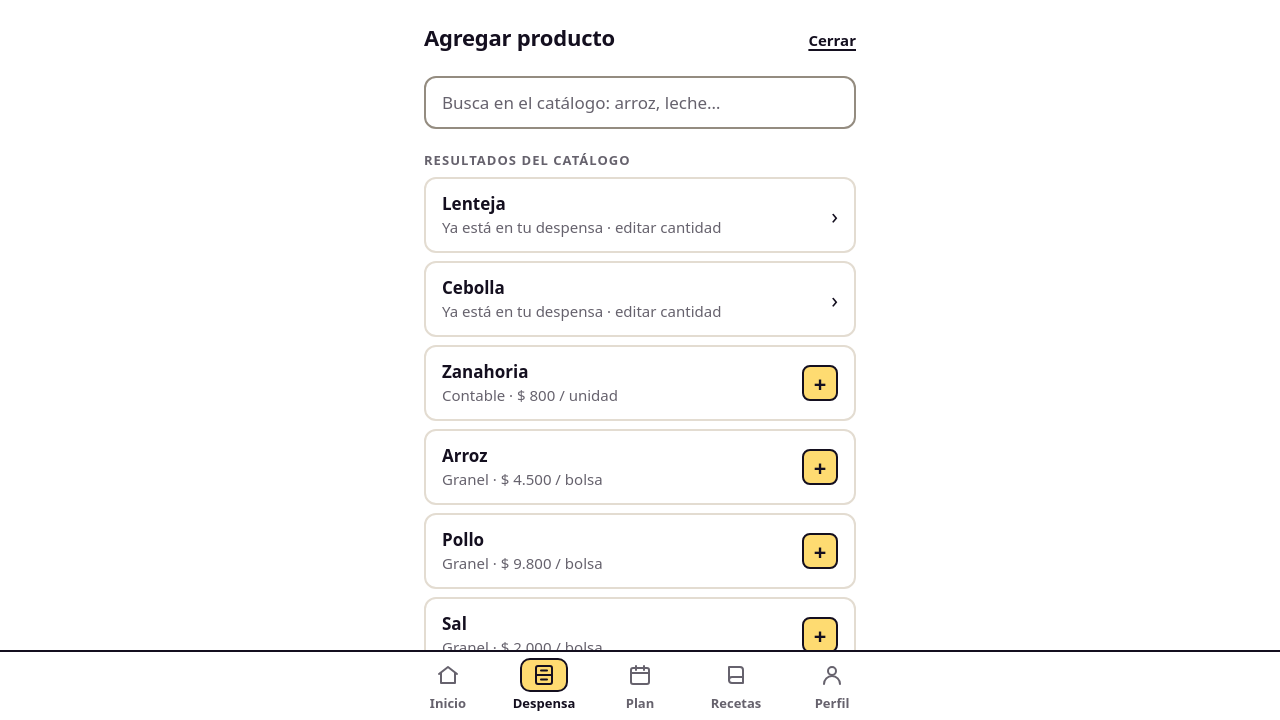
Test: Producto propio del hogar (ADR-18) › desde el catálogo se registra un producto que no existe y queda en la despensa
Type "Arepas" into the search field labelled "Busca en el catálogo" at [640, 102], box 424,76 -> 856,129
(page scrolled)
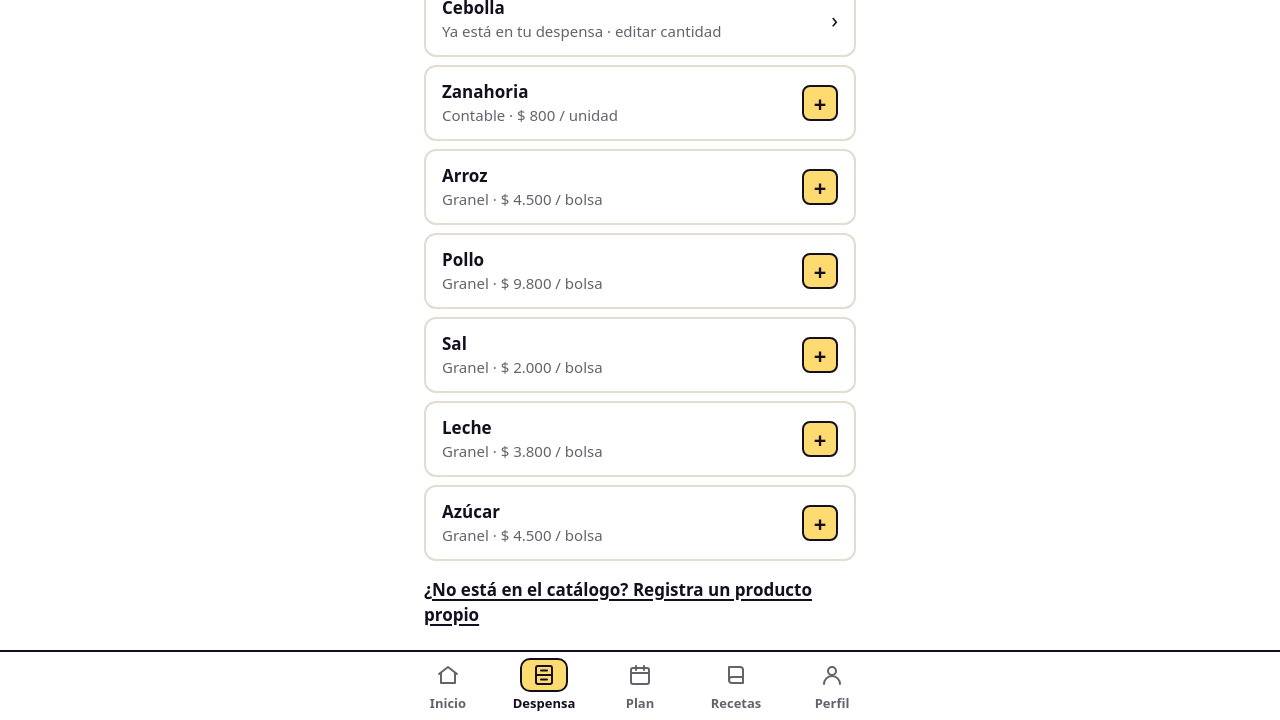
Click the link "¿No está en el catálogo? Registra un producto propio" at [640, 602], box 424,577 -> 856,628
(page scrolled)
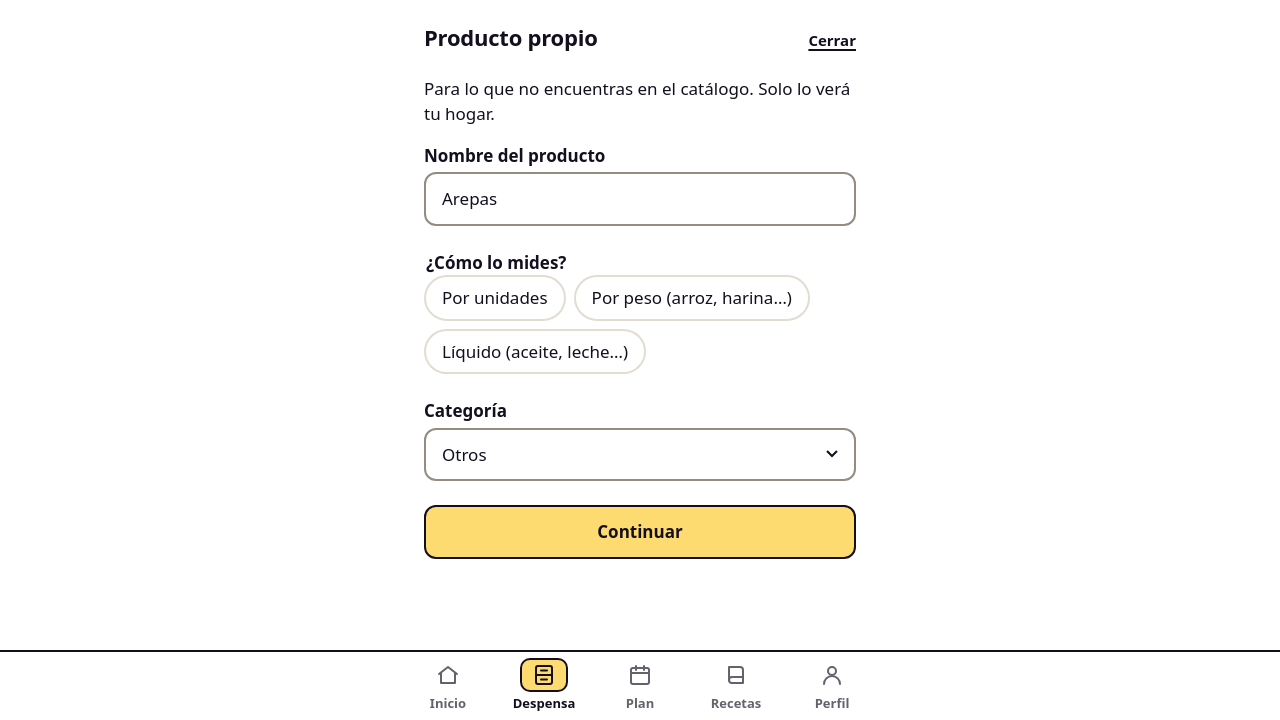
Now the field labelled "Nombre del producto" holds "Arepas", box 424,172 -> 856,226
Click the button "Continuar" at [640, 532], box 424,505 -> 856,558
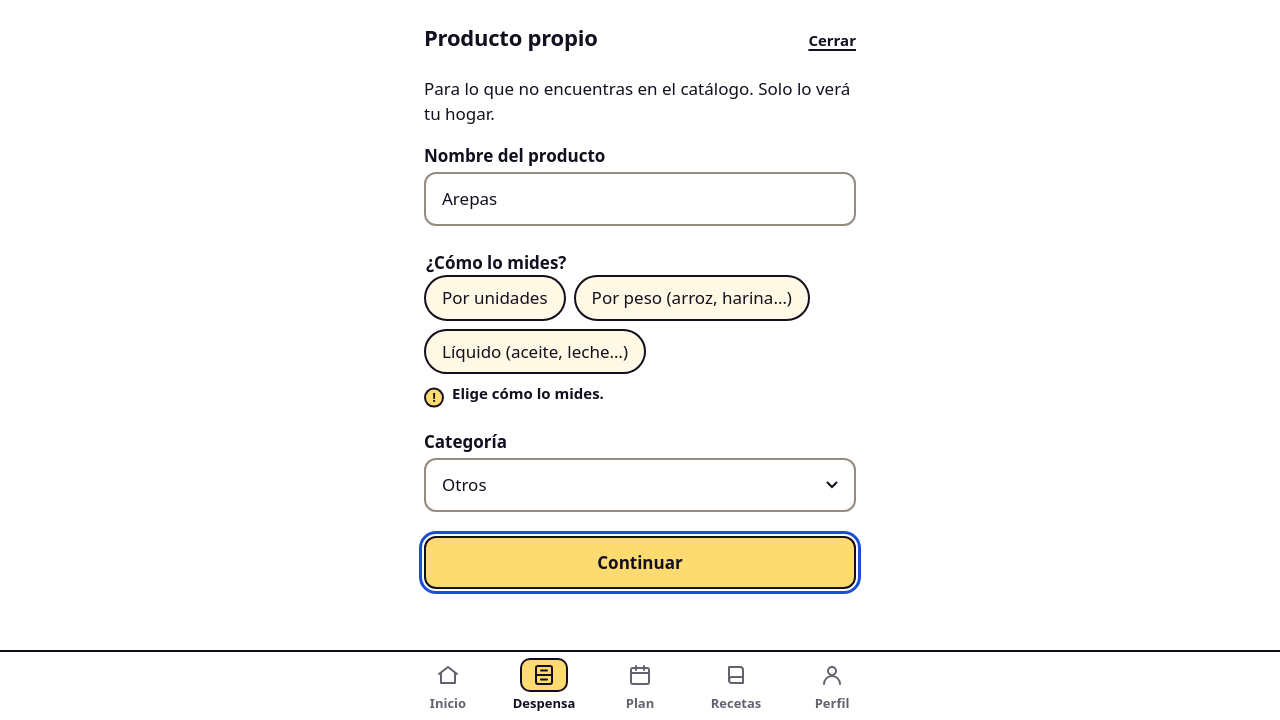
Now the text "Elige cómo lo mides." is shown, box 452,383 -> 604,403
Click the radio button labelled "Por unidades" at [495, 298], box 424,275 -> 566,320
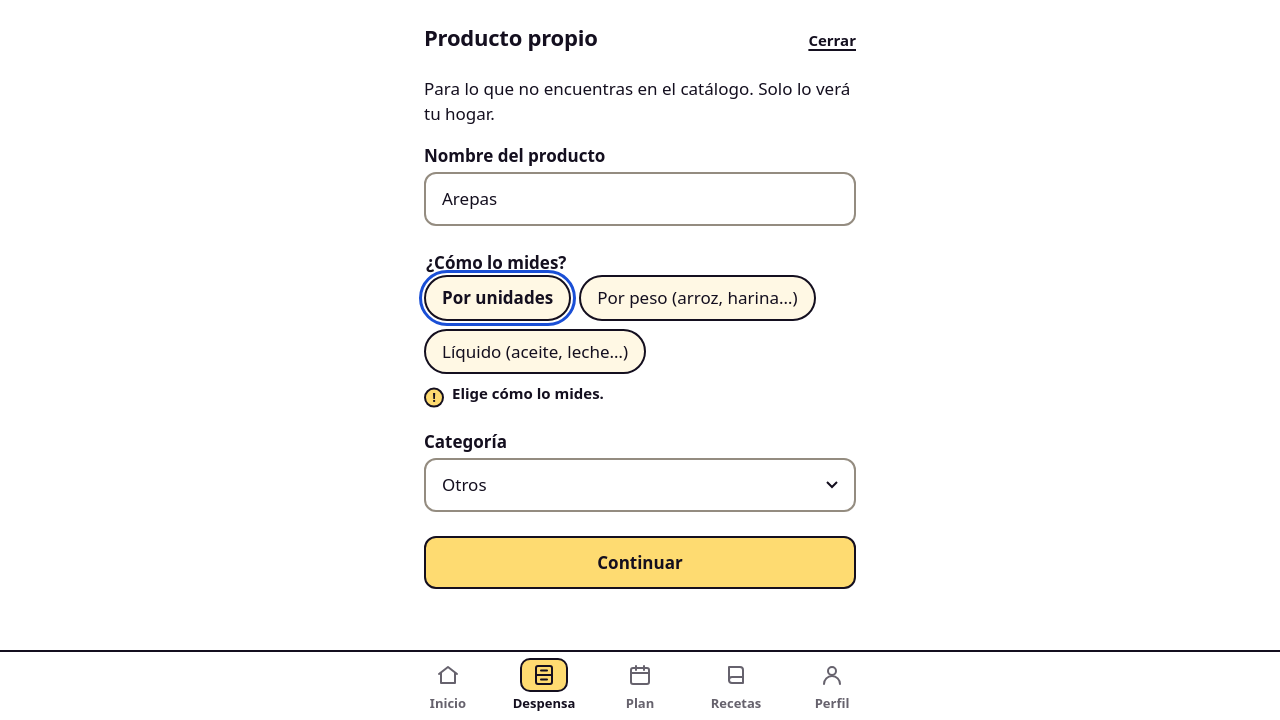
Click the button "Continuar" at [640, 562], box 424,536 -> 856,589
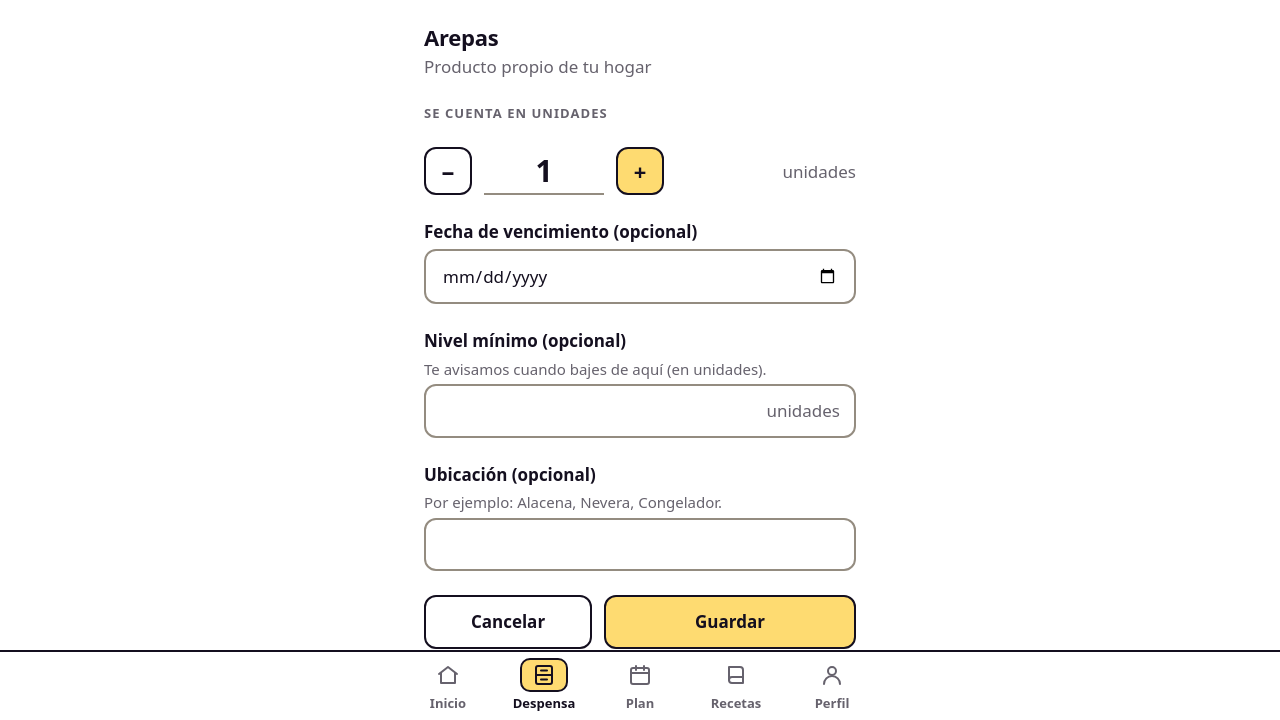
Now the heading "Arepas" is shown, box 424,24 -> 499,50
Click the button "Guardar" at [730, 622], box 604,595 -> 856,649
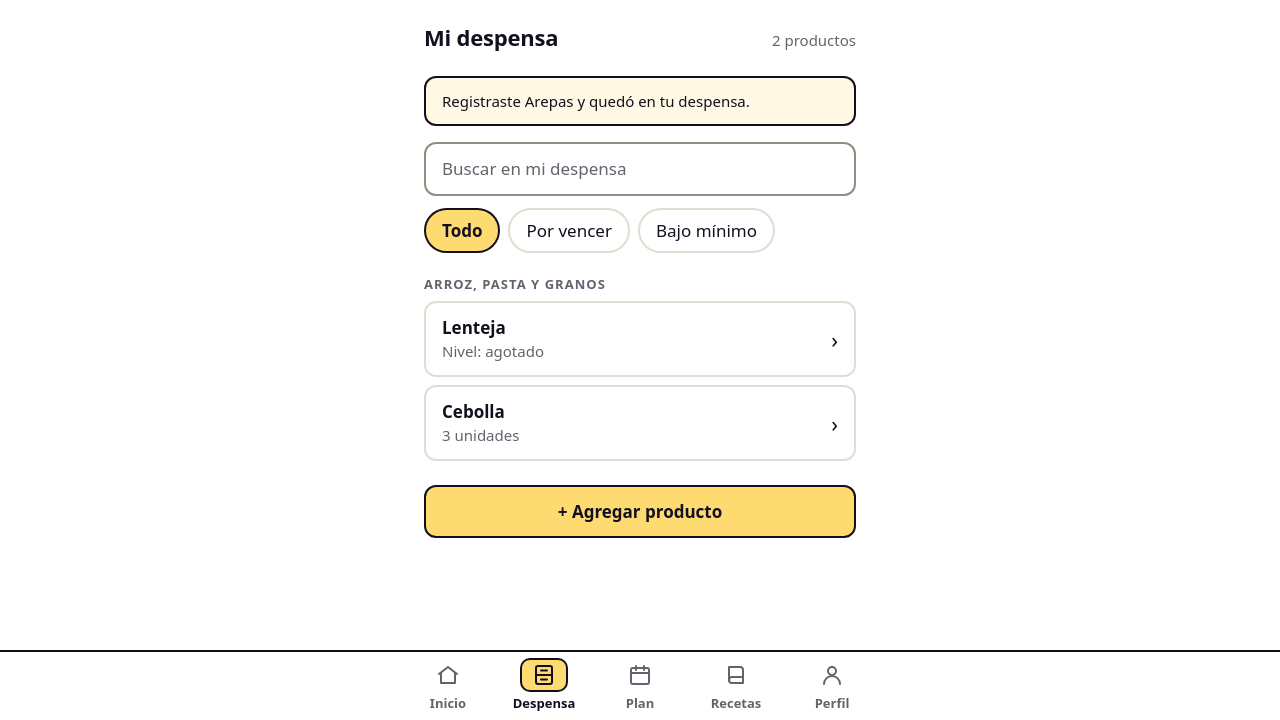
Now the text "Registraste Arepas y quedó en tu despensa." is shown, box 424,76 -> 856,126
